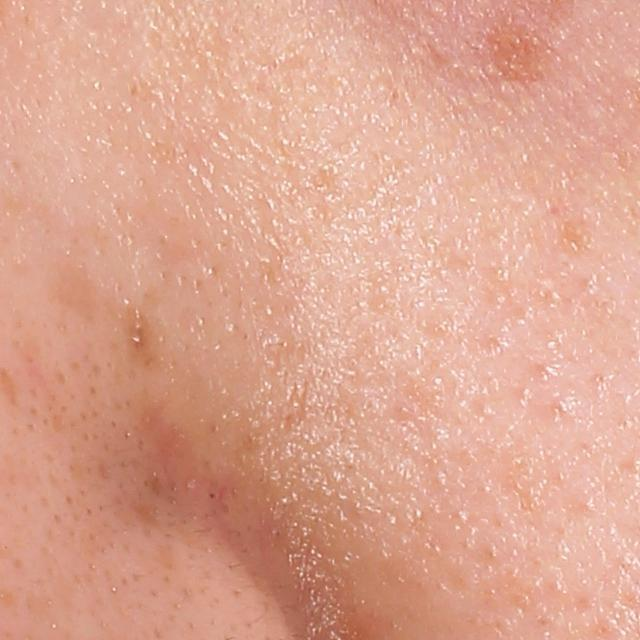melasma: (481, 14, 554, 86), (556, 202, 605, 267), (120, 293, 164, 361)
